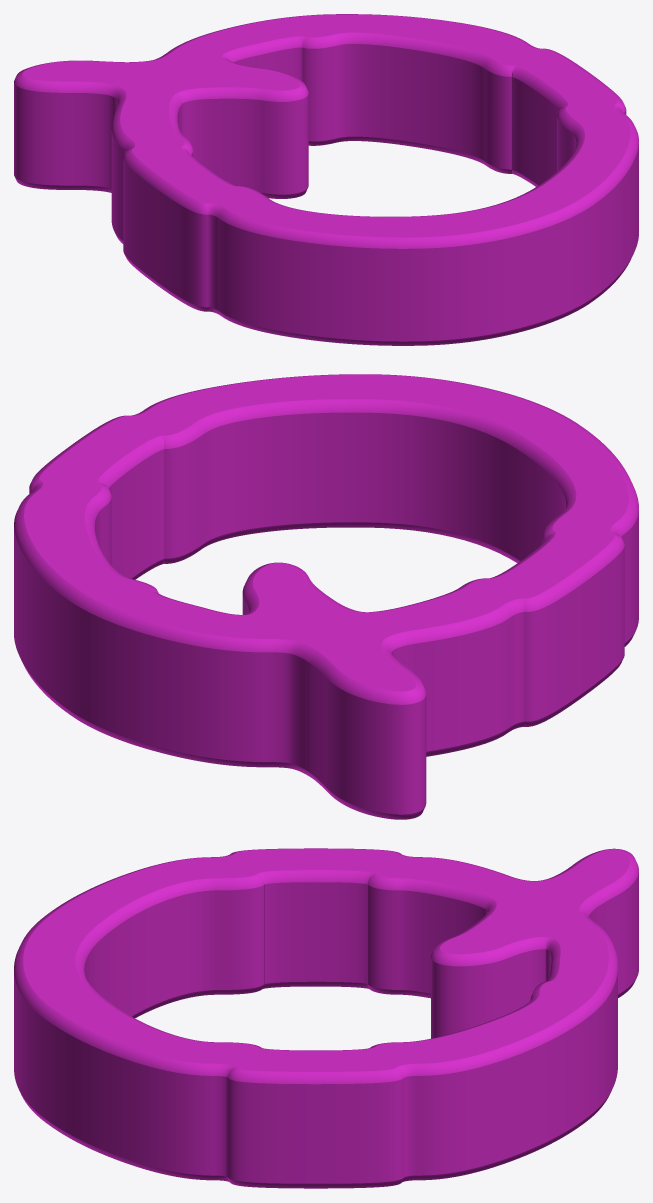
The model's file is Blocky_LetterQ.fbx.
3 renders of one model, top to bottom at view 1: azimuth 30°, elevation 25°; view 2: azimuth 150°, elevation 25°; view 3: azimuth 270°, elevation 25°, orthographic. The views are drawn at different scales.
Visible parts, largest first — view 1: BlockyLetter_Q; view 2: BlockyLetter_Q; view 3: BlockyLetter_Q.
Part boxes in pixels (x1=…): BlockyLetter_Q: x1=14, y1=14, x2=638, y2=345; BlockyLetter_Q: x1=14, y1=374, x2=638, y2=819; BlockyLetter_Q: x1=14, y1=848, x2=638, y2=1188.
Size of the model in its own units: 0.5967 by 0.14 by 0.6824.
